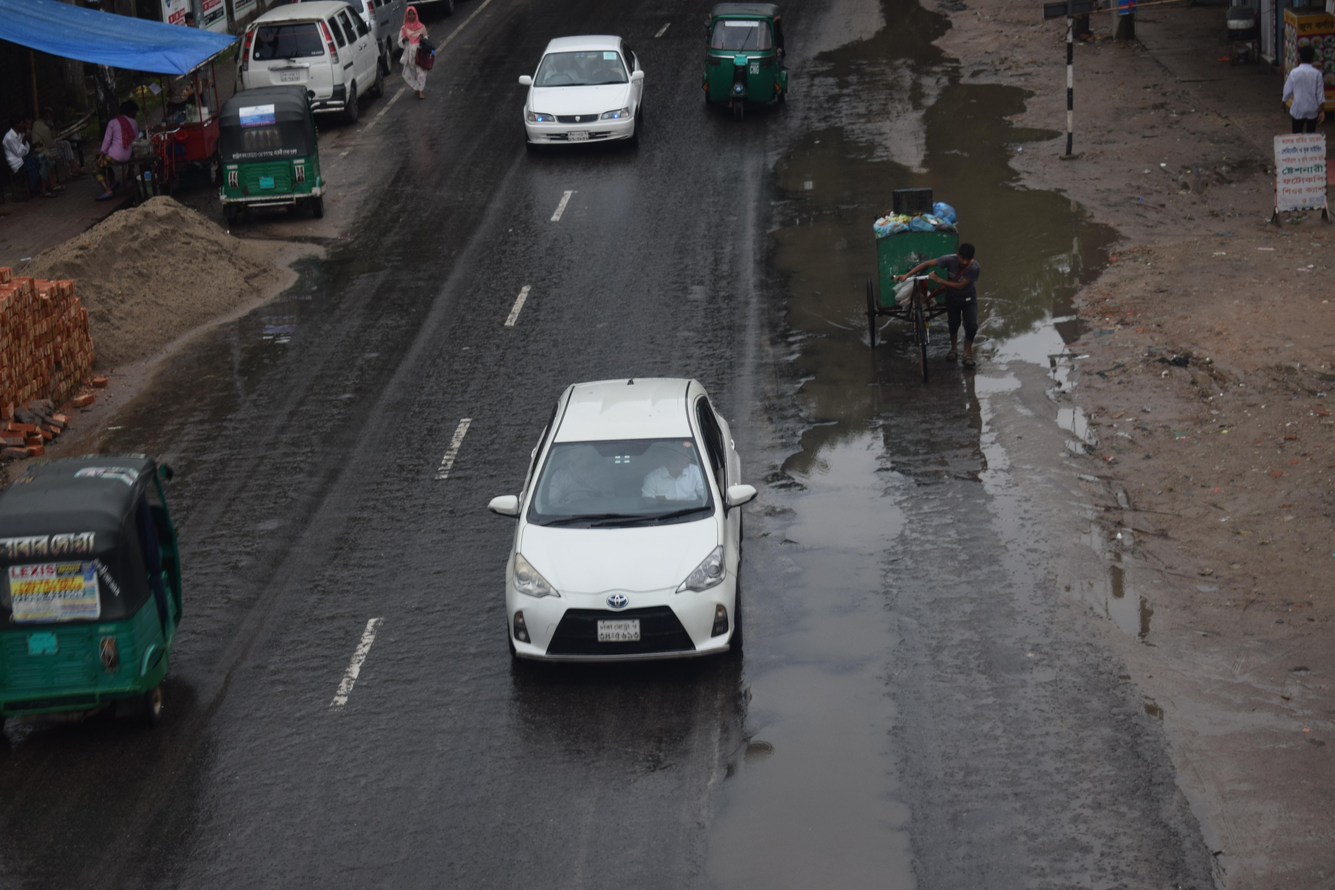Car: (426, 344, 791, 715), (207, 0, 415, 132), (502, 28, 670, 185)
